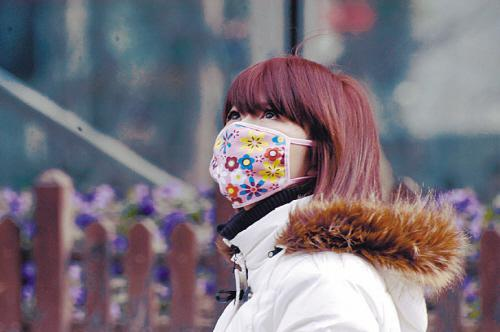OK: (213, 92, 313, 197)
